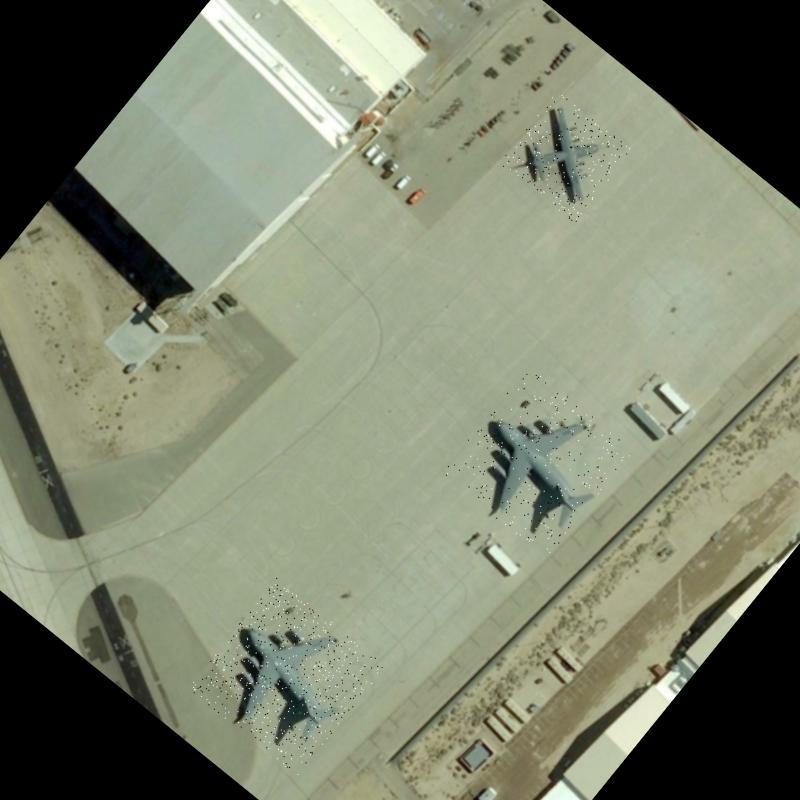A2: (498, 90, 633, 224)
A3: (186, 578, 386, 776), (439, 364, 634, 560)
